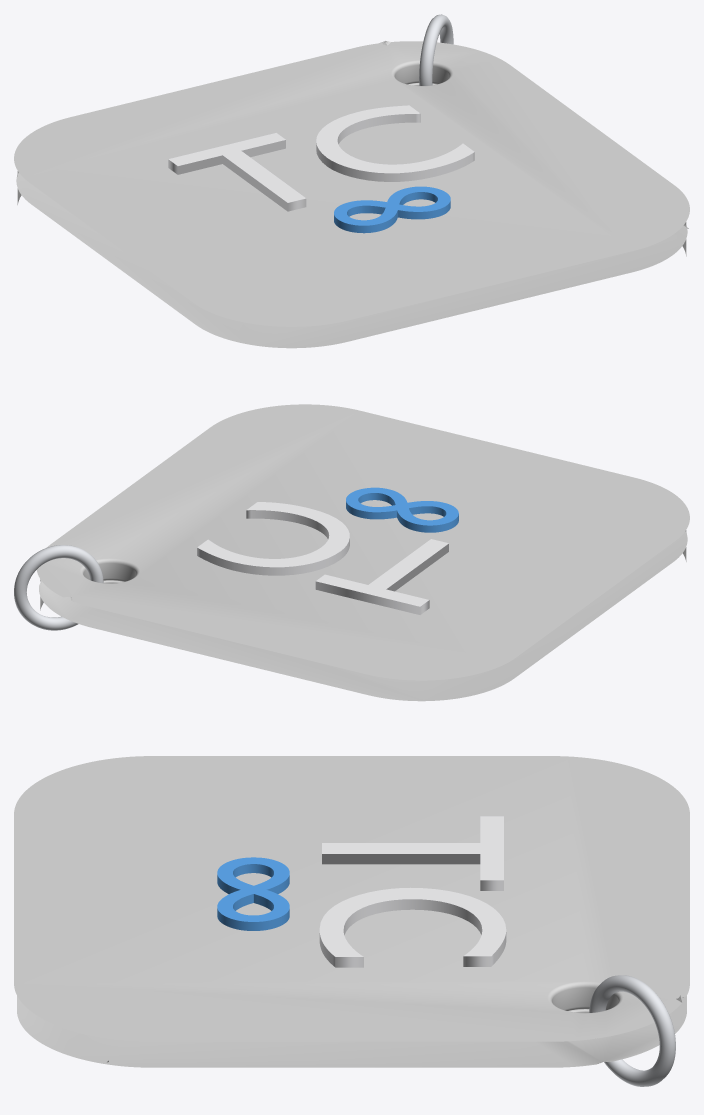
File: hero-keychain-tc.glb
3 renders of one model, top to bottom at view 1: azimuth 30°, elevation 25°; view 2: azimuth 150°, elevation 25°; view 3: azimuth 270°, elevation 25°, orthographic. The views are drawn at different scales.
Visible parts, largest first — view 1: TopShell, BaseShell, TC_Relief, Infinity_Relief, KeyRing; view 2: TopShell, BaseShell, TC_Relief, Infinity_Relief, KeyRing; view 3: TopShell, BaseShell, TC_Relief, Infinity_Relief, KeyRing.
Boxes of the visible parts, box(x1,y1,x2,y2) form: TopShell: box(14, 41, 689, 326); BaseShell: box(16, 83, 687, 348); TC_Relief: box(168, 105, 474, 211); Infinity_Relief: box(334, 186, 450, 233); KeyRing: box(419, 14, 453, 85); TopShell: box(37, 404, 689, 680); BaseShell: box(39, 531, 687, 701); TC_Relief: box(197, 502, 448, 614); Infinity_Relief: box(346, 487, 458, 532); KeyRing: box(14, 545, 103, 630); TopShell: box(14, 756, 689, 1062); BaseShell: box(17, 996, 686, 1067); TC_Relief: box(319, 816, 506, 967); Infinity_Relief: box(217, 857, 289, 930); KeyRing: box(589, 975, 675, 1086).
Size of the model in its own units: 0.0406 by 0.007 by 0.0406.
